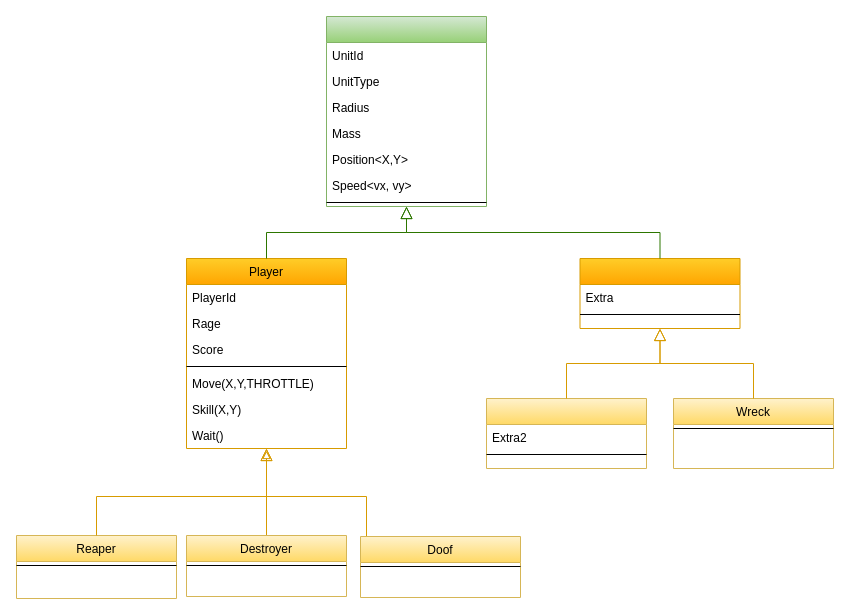
This 850x615 diagram has some shape labels left out. Each missing label, with the box of its shape:
Autonomous: (579, 258, 740, 328)
Entity: (326, 16, 486, 206)
Tanker: (486, 398, 646, 468)
